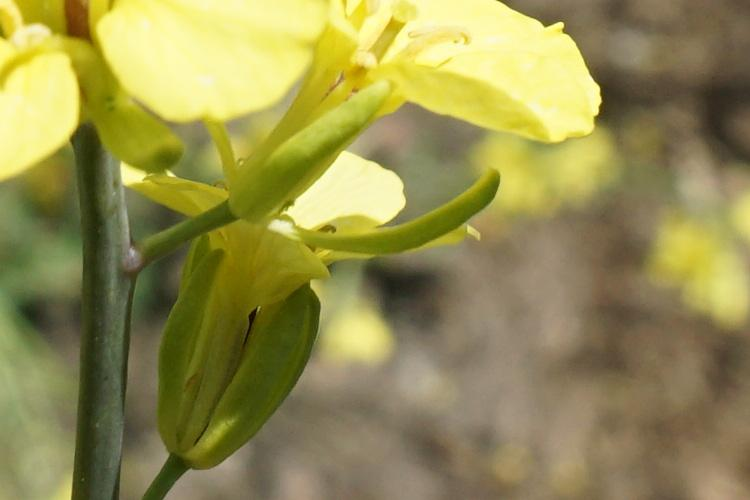yellow: (22, 9, 596, 191), (155, 133, 516, 351)
